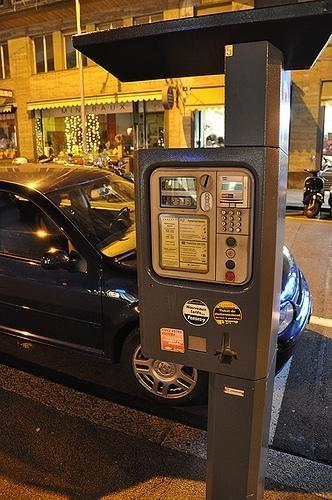car: (0, 163, 312, 407)
motorcycle: (304, 168, 330, 218)
